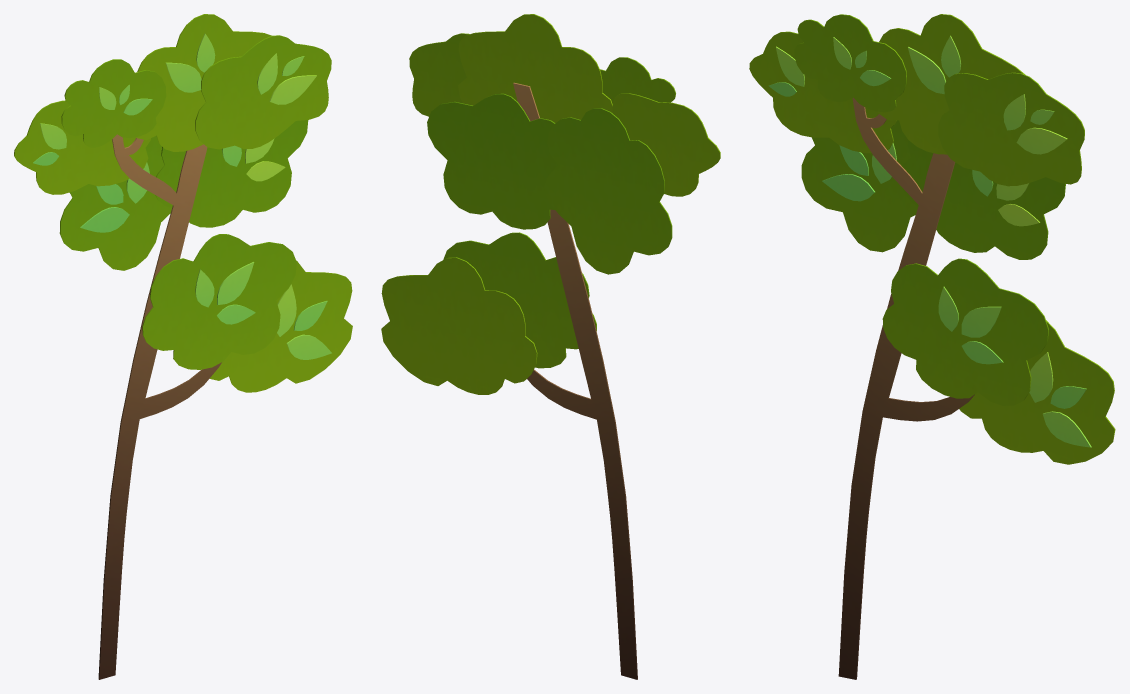
File: obj-boom-3.FBX
3 renders of one model, left to right at view 1: azimuth 30°, elevation 25°; view 2: azimuth 150°, elevation 25°; view 3: azimuth 330°, elevation 25°, orthographic. The views are drawn at different scales.
Visible parts, largest first — view 1: boom 3; view 2: boom 3; view 3: boom 3.
Part boxes in pixels (x1=…): boom 3: x1=14, y1=14, x2=352, y2=679; boom 3: x1=381, y1=14, x2=720, y2=679; boom 3: x1=749, y1=14, x2=1115, y2=679.
Bounding box in the file's own units: 12.54 × 22.64 × 0.3646.
Materials: 1 (1 with a texture image).
